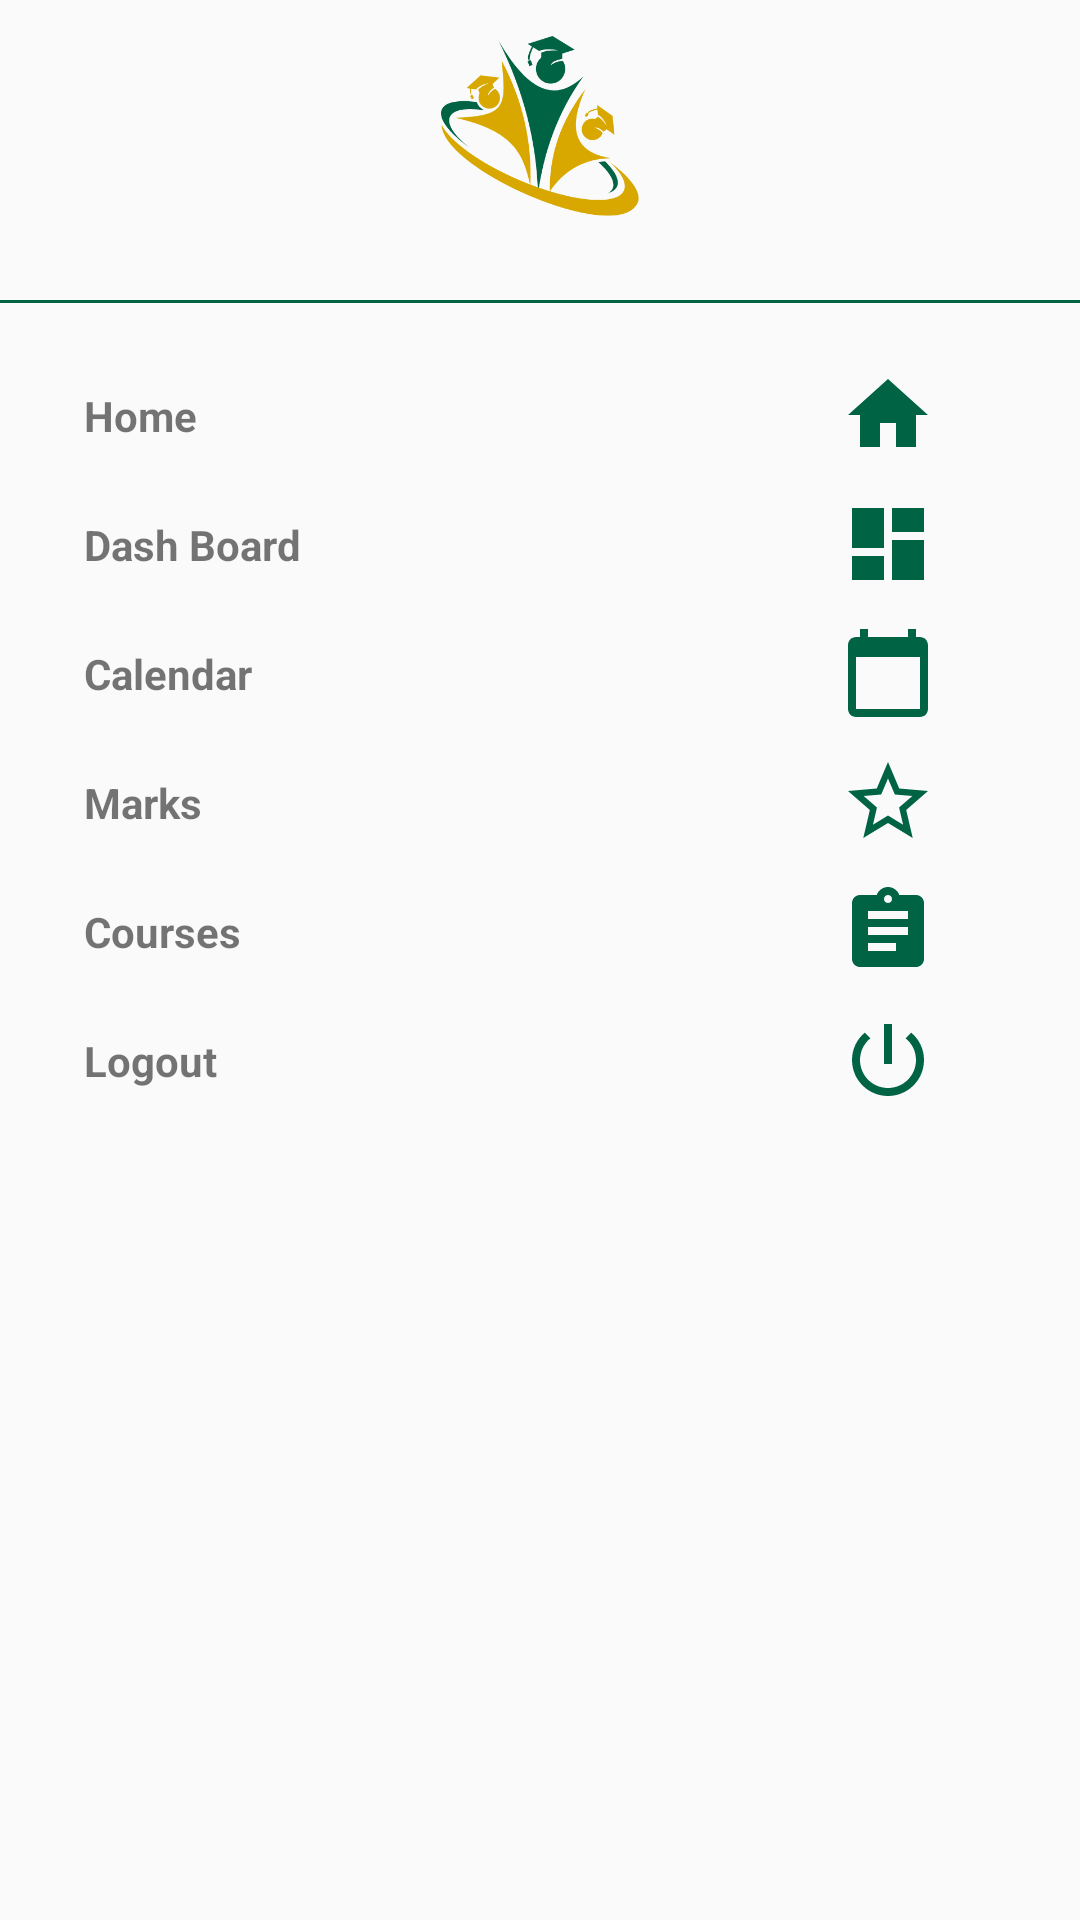

Icons on this 1080w x 1920h Android screen, each with the point to tap as [x,y]:
star: [888,800]
